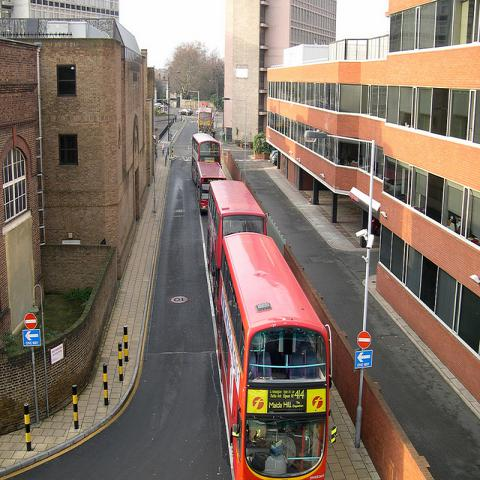bus: (209, 232, 330, 474), (207, 180, 267, 260), (196, 160, 227, 216), (190, 131, 222, 183), (199, 107, 213, 131)
car: (178, 108, 192, 116), (272, 153, 278, 166)
